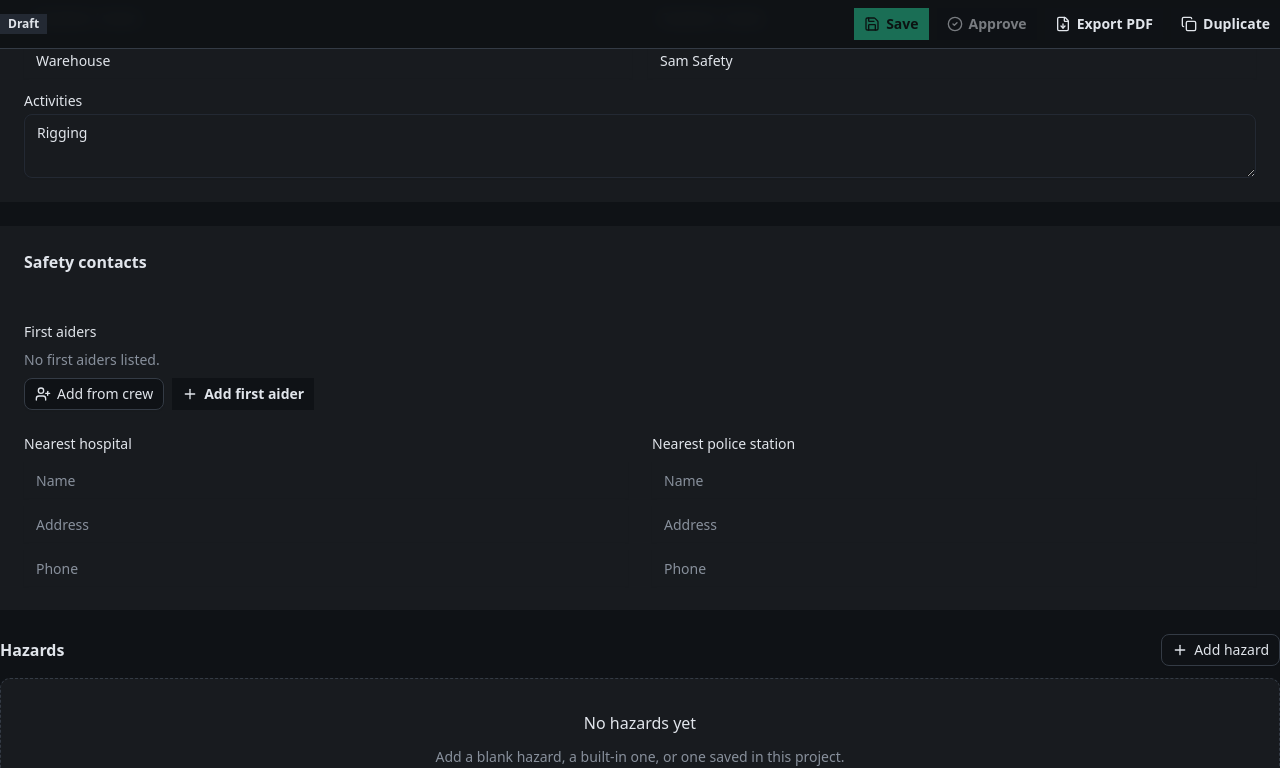
RiskAssessmentEditorPage › adds the built-in Manual Handling hazard (red before, green after) and saves it
(page scrolled)
Expected: the field showing "Warehouse" is shown, 24,42 -> 632,78
Click the button "Add hazard". click: point(1221, 650)
box: 1161,634 -> 1279,666
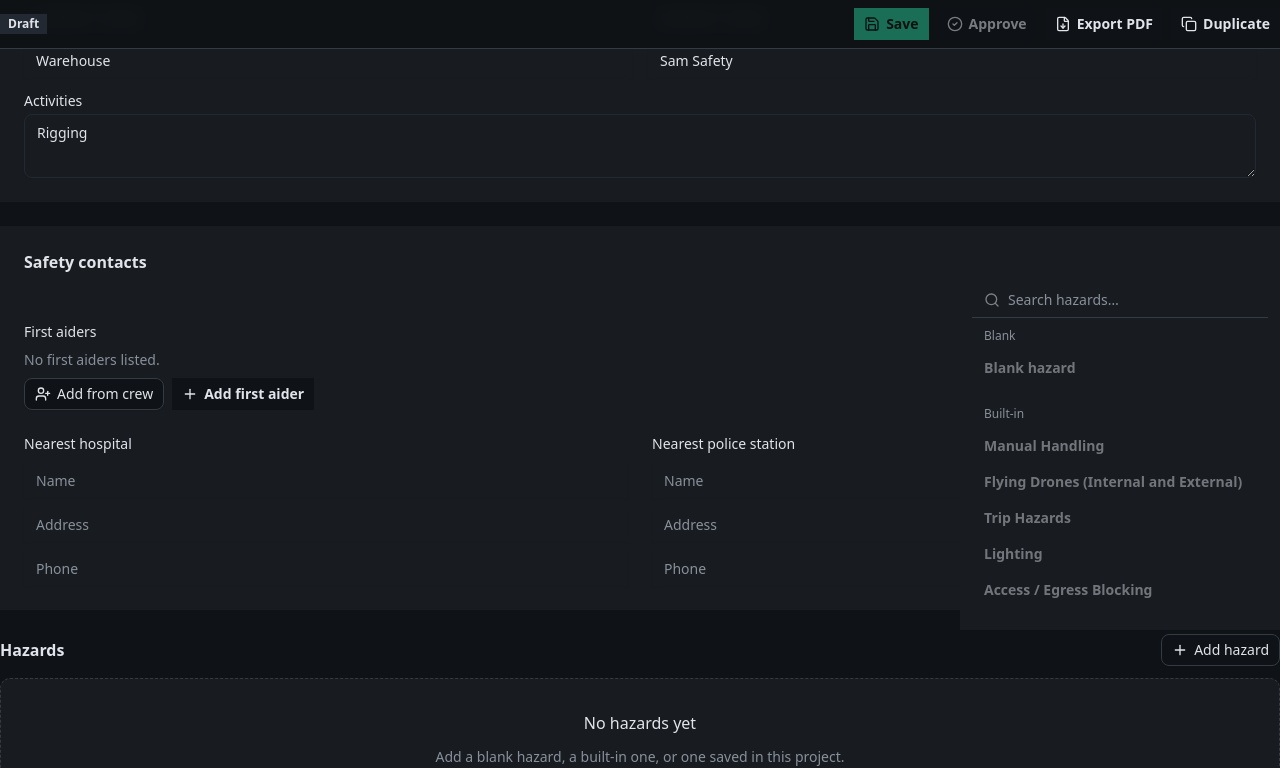
Click the option "Manual Handling". click: point(1044, 446)
box: 984,436 -> 1104,455
(page scrolled)
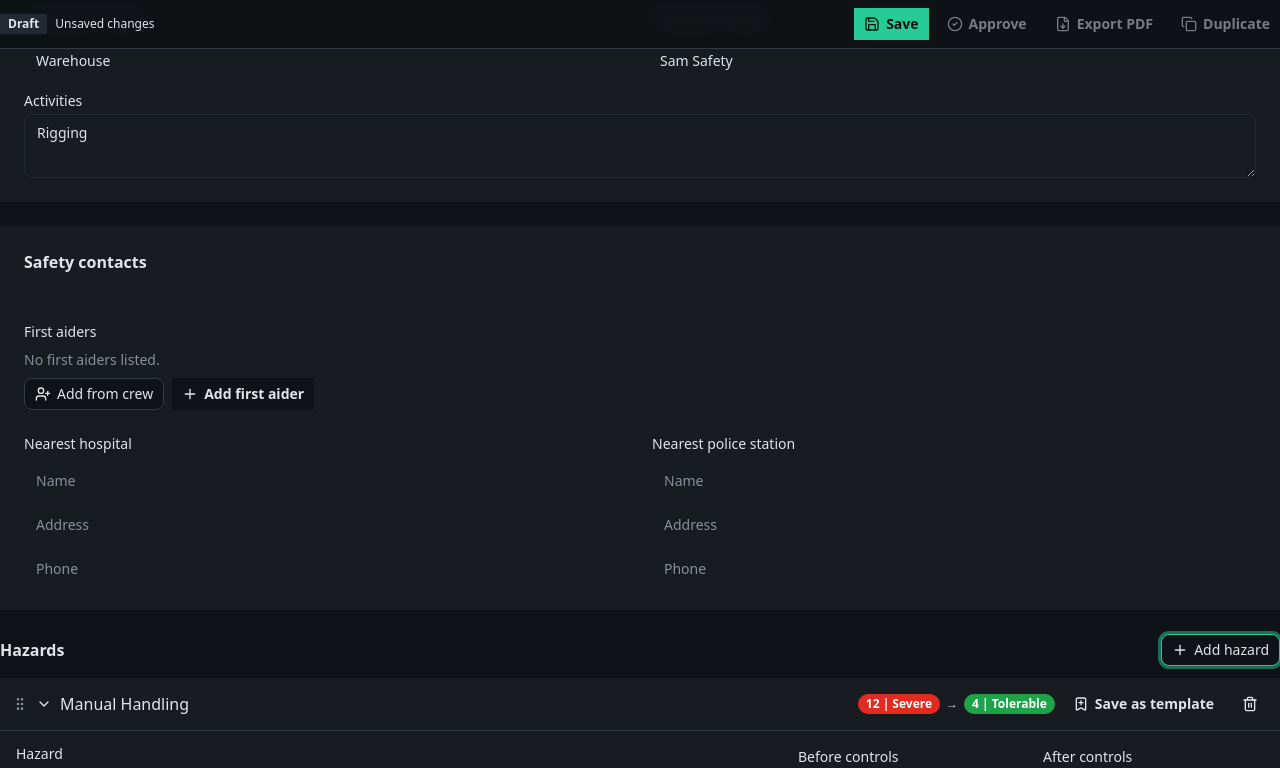
Expected: the text "12 | Severe" is shown, 858,694 -> 940,714
Expected: the text "4 | Tolerable" is shown, 964,694 -> 1055,714
Expected: the text "Unsaved changes" is shown, 55,16 -> 154,32
Click the button "Save". click: point(891, 24)
box: 854,8 -> 928,40
(page scrolled)
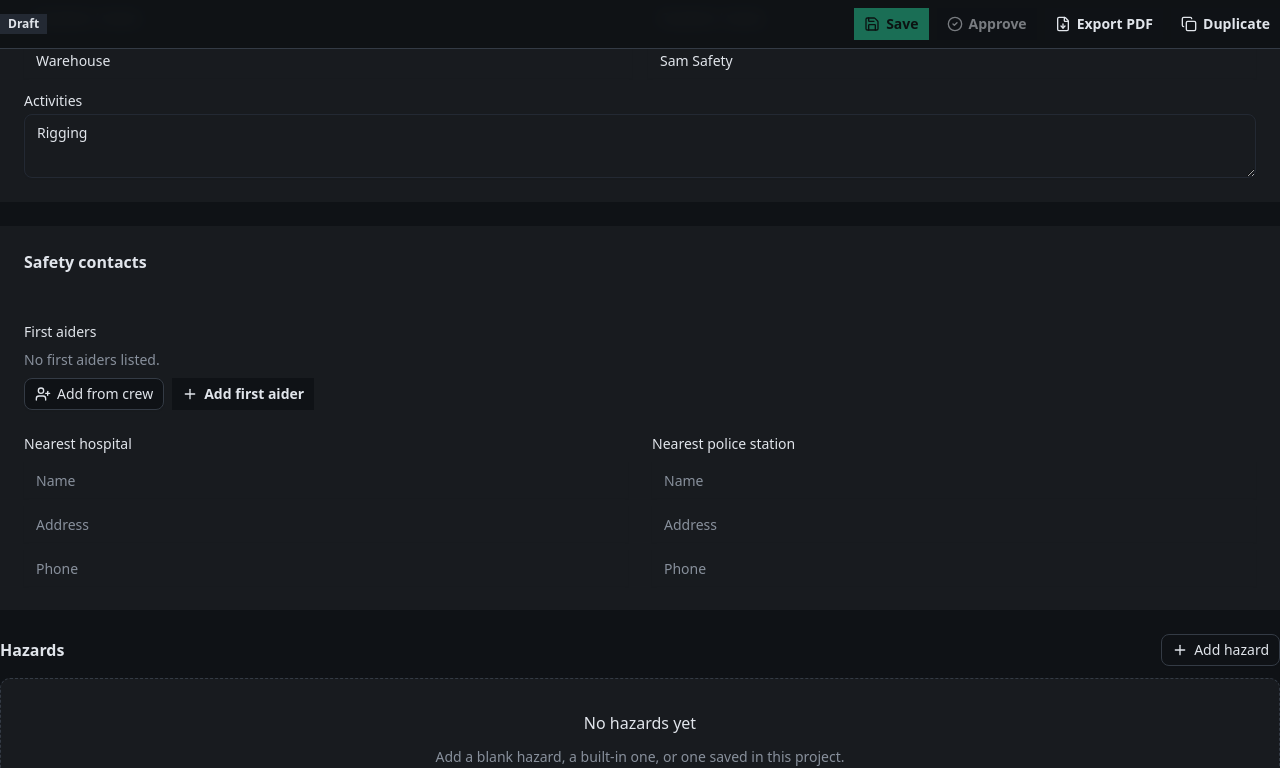
Expected: the text "Unsaved changes" is gone
